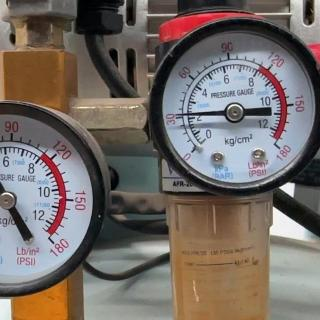gauge: (148, 11, 320, 197), (0, 97, 110, 307), (182, 137, 208, 163), (223, 101, 245, 123), (269, 136, 287, 156), (0, 190, 16, 210), (42, 230, 58, 250), (170, 112, 180, 120)
